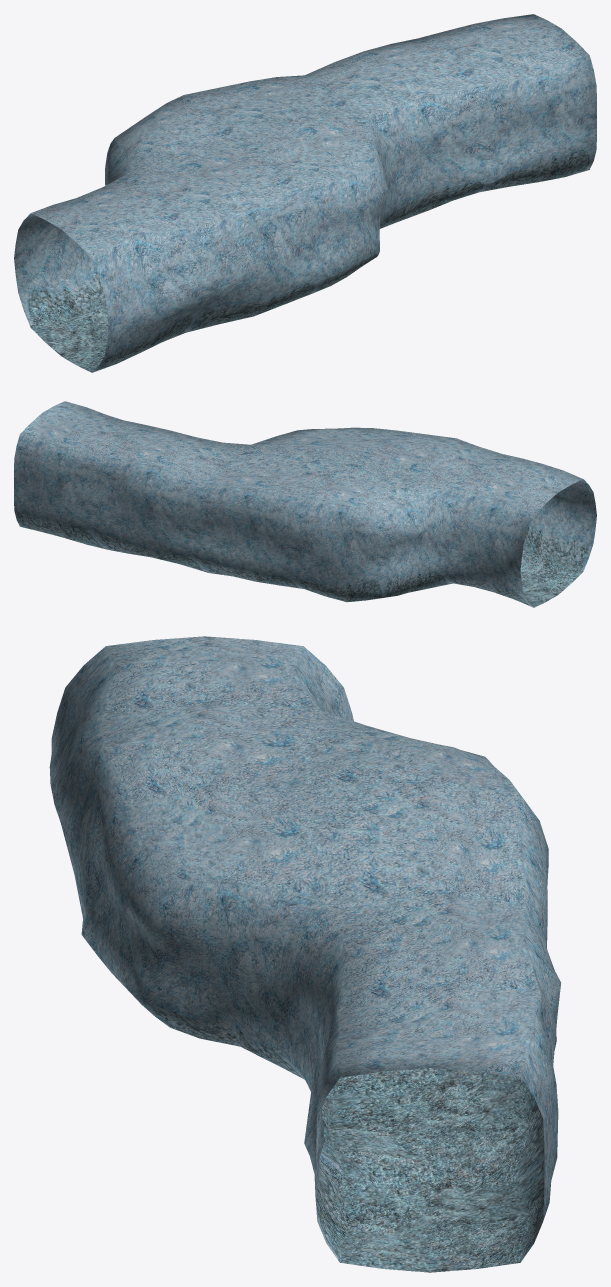
The model's file is thm_all_cave_s03_ice_r3_r3.fbx.
The picture shows the model from 3 angles, top to bottom: view 1: azimuth 30°, elevation 25°; view 2: azimuth 150°, elevation 25°; view 3: azimuth 270°, elevation 25°; orthographic projection. The views are drawn at different scales.
Parts seen in each view (by area): view 1: mesh_node; view 2: mesh_node; view 3: mesh_node.
Boxes of the visible parts, x1,y1,x2,y2 form: mesh_node: [14, 14, 596, 372]; mesh_node: [14, 401, 596, 607]; mesh_node: [49, 636, 560, 1272].
Bounding box in the file's own units: 37.27 × 8.92 × 17.95.
